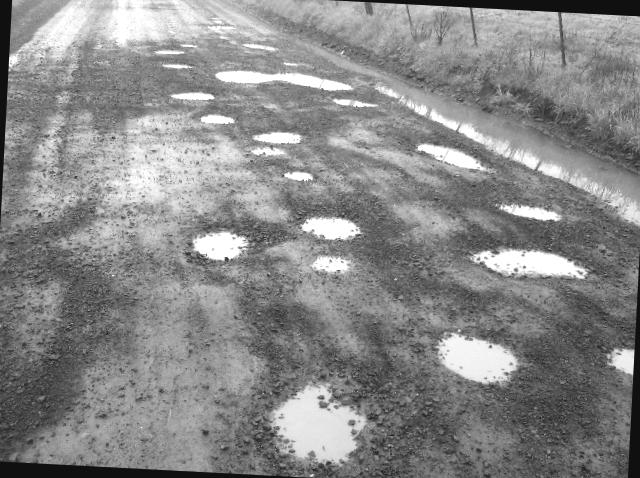Pothole: (254, 378, 387, 473), (462, 241, 598, 295), (430, 322, 522, 393), (173, 221, 264, 272), (492, 194, 590, 238), (212, 67, 362, 95), (296, 206, 372, 247), (409, 137, 490, 170), (309, 255, 358, 288), (244, 126, 310, 149), (196, 107, 238, 130), (330, 94, 378, 113), (248, 140, 288, 160), (282, 167, 314, 183)
